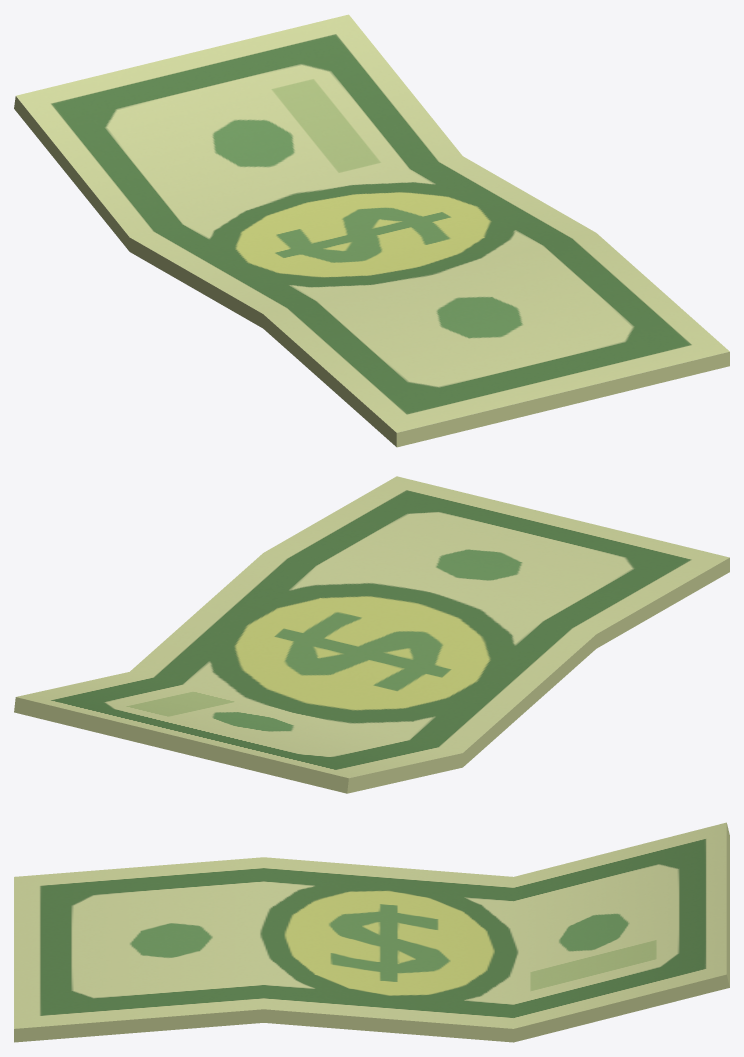
The model's file is Cash_02.glb.
3 renders of one model, top to bottom at view 1: azimuth 30°, elevation 25°; view 2: azimuth 150°, elevation 25°; view 3: azimuth 270°, elevation 25°, orthographic. The views are drawn at different scales.
Parts seen in each view (by area): view 1: Cash_02; view 2: Cash_02; view 3: Cash_02.
Part boxes in pixels (x1=…): Cash_02: x1=14, y1=14, x2=729, y2=447; Cash_02: x1=14, y1=476, x2=729, y2=793; Cash_02: x1=14, y1=822, x2=729, y2=1042.
Size of the model in its own units: 0.12 by 0.025 by 0.2388.
1 material, 1 textured.
